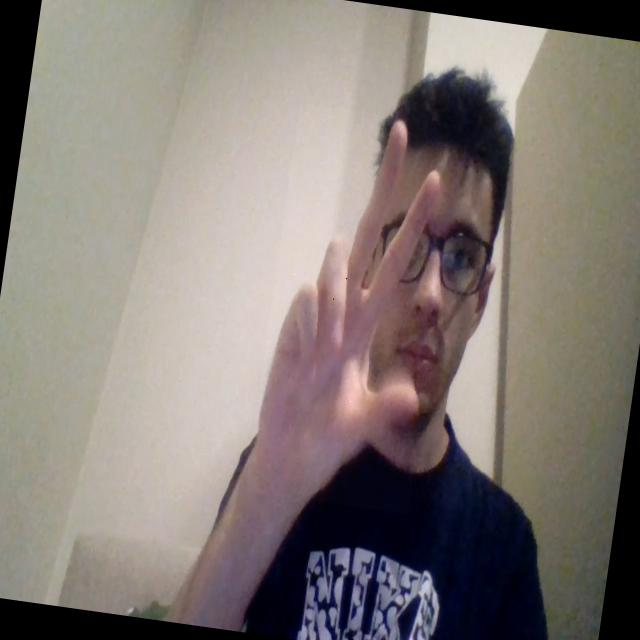no: (245, 103, 462, 514)
